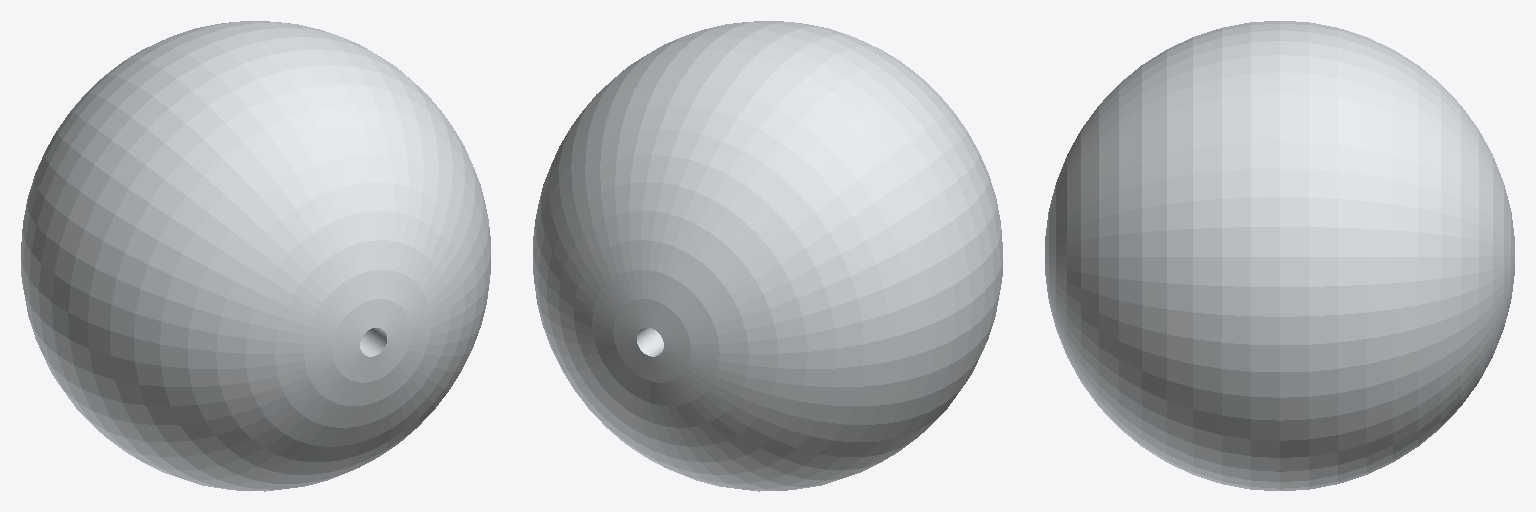
The robot description file, URDF, robot "lide":
<?xml version="1.0" encoding="utf-8"?>
<!-- This URDF was automatically created by SolidWorks to URDF Exporter! Originally created by [author] ([email redacted]) 
     Commit Version: 1.5.1-0-g916b5db  Build Version: 1.5.7152.31018
     For more information, please see http://wiki.ros.org/sw_urdf_exporter -->
<robot
  name="lide">
  <link
    name="base_link">
    <inertial>
      <origin
        xyz="-0.12391 0.084904 0.0506"
        rpy="0 0 0" />
      <mass
        value="2.9143" />
      <inertia
        ixx="0.0061741"
        ixy="-7.1545E-07"
        ixz="-1.2654E-05"
        iyy="0.0055345"
        iyz="-3.5133E-07"
        izz="0.01105" />
    </inertial>
    <visual>
      <origin
        xyz="0 0 0"
        rpy="0 0 0" />
      <geometry>
        <mesh
          filename="package://lide/meshes/base_link.STL" />
      </geometry>
      <material
        name="">
        <color
          rgba="0.75294 0.75294 0.75294 1" />
      </material>
    </visual>
    <collision>
      <origin
        xyz="0 0 0"
        rpy="0 0 0" />
      <geometry>
        <mesh
          filename="package://lide/meshes/base_link.STL" />
      </geometry>
    </collision>
  </link>
  <link
    name="LFS">
    <inertial>
      <origin
        xyz="0.04556 0.0083094 0.0029762"
        rpy="0 0 0" />
      <mass
        value="0.072793" />
      <inertia
        ixx="2.2093E-05"
        ixy="-1.6485E-08"
        ixz="-1.5645E-07"
        iyy="1.6263E-05"
        iyz="2.9641E-09"
        izz="1.8084E-05" />
    </inertial>
    <visual>
      <origin
        xyz="0 0 0"
        rpy="0 0 0" />
      <geometry>
        <mesh
          filename="package://lide/meshes/LFS.STL" />
      </geometry>
      <material
        name="">
        <color
          rgba="0.75294 0.75294 0.75294 1" />
      </material>
    </visual>
    <collision>
      <origin
        xyz="0 0 0"
        rpy="0 0 0" />
      <geometry>
        <mesh
          filename="package://lide/meshes/LFS.STL" />
      </geometry>
    </collision>
  </link>
  <joint
    name="LFS"
    type="fixed">
    <origin
      xyz="-0.054044 0.18241 -0.036503"
      rpy="1.5708 0 1.5708" />
    <parent
      link="base_link" />
    <child
      link="LFS" />
    <axis
      xyz="0 0 0" />
  </joint>
  <link
    name="LFW">
    <inertial>
      <origin
        xyz="0.015 0 3.4694E-18"
        rpy="0 0 0" />
      <mass
        value="0.76708" />
      <inertia
        ixx="0.0011643"
        ixy="4.4576E-22"
        ixz="-1.8299E-20"
        iyy="0.00063966"
        iyz="-1.3553E-20"
        izz="0.00063966" />
    </inertial>
    <visual>
      <origin
        xyz="0 0 0"
        rpy="0 0 0" />
      <geometry>
        <mesh
          filename="package://lide/meshes/LFW.STL" />
      </geometry>
      <material
        name="">
        <color
          rgba="0.89804 0.91765 0.92941 1" />
      </material>
    </visual>
    <collision>
      <origin
        xyz="0 0 0"
        rpy="0 0 0" />
      <geometry>
        <mesh
          filename="package://lide/meshes/LFW.STL" />
      </geometry>
    </collision>
  </link>
  <joint
    name="LFW"
    type="continuous">
    <origin
      xyz="0.063346 -0.006798 0.015044"
      rpy="-1.6264 0 0" />
    <parent
      link="LFS" />
    <child
      link="LFW" />
    <axis
      xyz="1 0 0" />
    <limit
      effort="3.1"
      velocity="7" />
  </joint>
  <link
    name="RFS">
    <inertial>
      <origin
        xyz="-0.019183 -0.0090093 0.052006"
        rpy="0 0 0" />
      <mass
        value="0.072793" />
      <inertia
        ixx="2.2093E-05"
        ixy="-1.6485E-08"
        ixz="1.5645E-07"
        iyy="1.6263E-05"
        iyz="-2.9641E-09"
        izz="1.8084E-05" />
    </inertial>
    <visual>
      <origin
        xyz="0 0 0"
        rpy="0 0 0" />
      <geometry>
        <mesh
          filename="package://lide/meshes/RFS.STL" />
      </geometry>
      <material
        name="">
        <color
          rgba="0.75294 0.75294 0.75294 1" />
      </material>
    </visual>
    <collision>
      <origin
        xyz="0 0 0"
        rpy="0 0 0" />
      <geometry>
        <mesh
          filename="package://lide/meshes/RFS.STL" />
      </geometry>
    </collision>
  </link>
  <joint
    name="RFS"
    type="fixed">
    <origin
      xyz="-0.10307 -0.042784 -0.019216"
      rpy="1.5708 0 1.5708" />
    <parent
      link="base_link" />
    <child
      link="RFS" />
    <axis
      xyz="0 0 0" />
  </joint>
  <link
    name="RFW">
    <inertial>
      <origin
        xyz="-0.015 0 0"
        rpy="0 0 0" />
      <mass
        value="0.76708" />
      <inertia
        ixx="0.0011643"
        ixy="-1.2315E-36"
        ixz="0"
        iyy="0.00063966"
        iyz="8.0046E-39"
        izz="0.00063966" />
    </inertial>
    <visual>
      <origin
        xyz="0 0 0"
        rpy="0 0 0" />
      <geometry>
        <mesh
          filename="package://lide/meshes/RFW.STL" />
      </geometry>
      <material
        name="">
        <color
          rgba="0.89804 0.91765 0.92941 1" />
      </material>
    </visual>
    <collision>
      <origin
        xyz="0 0 0"
        rpy="0 0 0" />
      <geometry>
        <mesh
          filename="package://lide/meshes/RFW.STL" />
      </geometry>
    </collision>
  </link>
  <joint
    name="RFW"
    type="continuous">
    <origin
      xyz="-0.036969 -0.024084 0.064073"
      rpy="0 0 0" />
    <parent
      link="RFS" />
    <child
      link="RFW" />
    <axis
      xyz="1 0 0" />
    <limit
      effort="3.1"
      velocity="7" />
  </joint>
  <link
    name="LBS">
    <inertial>
      <origin
        xyz="-3.5414E-10 -0.026624 -8.5597E-10"
        rpy="0 0 0" />
      <mass
        value="0.10963" />
      <inertia
        ixx="9.4707E-05"
        ixy="-7.1331E-13"
        ixz="1.3632E-13"
        iyy="7.1991E-05"
        iyz="-4.5924E-12"
        izz="9.4742E-05" />
    </inertial>
    <visual>
      <origin
        xyz="0 0 0"
        rpy="0 0 0" />
      <geometry>
        <mesh
          filename="package://lide/meshes/LBS.STL" />
      </geometry>
      <material
        name="">
        <color
          rgba="0.89804 0.91765 0.92941 1" />
      </material>
    </visual>
    <collision>
      <origin
        xyz="0 0 0"
        rpy="0 0 0" />
      <geometry>
        <mesh
          filename="package://lide/meshes/LBS.STL" />
      </geometry>
    </collision>
  </link>
  <joint
    name="LBS"
    type="fixed">
    <origin
      xyz="-0.202 0.228 -0.012562"
      rpy="1.5708 0 1.5708" />
    <parent
      link="base_link" />
    <child
      link="LBS" />
    <axis
      xyz="0 0 0" />
  </joint>
  <link
    name="LBW">
    <inertial>
      <origin
        xyz="0 0 0"
        rpy="0 0 0" />
      <mass
        value="0.30333" />
      <inertia
        ixx="0.00010932"
        ixy="2.1445E-39"
        ixz="0"
        iyy="0.00010993"
        iyz="-1.6776E-40"
        izz="0.00010932" />
    </inertial>
    <visual>
      <origin
        xyz="0 0 0"
        rpy="0 0 0" />
      <geometry>
        <mesh
          filename="package://lide/meshes/LBW.STL" />
      </geometry>
      <material
        name="">
        <color
          rgba="0.89804 0.91765 0.92941 1" />
      </material>
    </visual>
    <collision>
      <origin
        xyz="0 0 0"
        rpy="0 0 0" />
      <geometry>
        <mesh
          filename="package://lide/meshes/LBW.STL" />
      </geometry>
    </collision>
  </link>
  <joint
    name="LBW"
    type="continuous">
    <origin
      xyz="0 -0.055738 0"
      rpy="3.1416 -0.43366 1.5708" />
    <parent
      link="LBS" />
    <child
      link="LBW" />
    <axis
      xyz="0 1 0" />
  </joint>
  <link
    name="RBS">
    <inertial>
      <origin
        xyz="-3.5414E-10 -0.026624 -8.5597E-10"
        rpy="0 0 0" />
      <mass
        value="0.10963" />
      <inertia
        ixx="9.4707E-05"
        ixy="-7.1331E-13"
        ixz="1.3632E-13"
        iyy="7.1991E-05"
        iyz="-4.5924E-12"
        izz="9.4742E-05" />
    </inertial>
    <visual>
      <origin
        xyz="0 0 0"
        rpy="0 0 0" />
      <geometry>
        <mesh
          filename="package://lide/meshes/RBS.STL" />
      </geometry>
      <material
        name="">
        <color
          rgba="0.89804 0.91765 0.92941 1" />
      </material>
    </visual>
    <collision>
      <origin
        xyz="0 0 0"
        rpy="0 0 0" />
      <geometry>
        <mesh
          filename="package://lide/meshes/RBS.STL" />
      </geometry>
    </collision>
  </link>
  <joint
    name="RBS"
    type="fixed">
    <origin
      xyz="-0.202 -0.062003 -0.012562"
      rpy="1.5708 0 1.5708" />
    <parent
      link="base_link" />
    <child
      link="RBS" />
    <axis
      xyz="0 0 0" />
  </joint>
  <link
    name="RBW">
    <inertial>
      <origin
        xyz="6.9389E-18 -2.7756E-17 -2.7756E-17"
        rpy="0 0 0" />
      <mass
        value="0.30333" />
      <inertia
        ixx="0.00010932"
        ixy="3.0972E-39"
        ixz="7.0418E-41"
        iyy="0.00010993"
        iyz="1.9488E-40"
        izz="0.00010932" />
    </inertial>
    <visual>
      <origin
        xyz="0 0 0"
        rpy="0 0 0" />
      <geometry>
        <mesh
          filename="package://lide/meshes/RBW.STL" />
      </geometry>
      <material
        name="">
        <color
          rgba="0.89804 0.91765 0.92941 1" />
      </material>
    </visual>
    <collision>
      <origin
        xyz="0 0 0"
        rpy="0 0 0" />
      <geometry>
        <mesh
          filename="package://lide/meshes/RBW.STL" />
      </geometry>
    </collision>
  </link>
  <joint
    name="RBW"
    type="continuous">
    <origin
      xyz="0 -0.055738 0"
      rpy="0 0 -1.5708" />
    <parent
      link="RBS" />
    <child
      link="RBW" />
    <axis
      xyz="0 1 0" />
  </joint>
  <link
    name="fcam">
    <inertial>
      <origin
        xyz="-0.011554 -2.6443E-06 0.0012903"
        rpy="0 0 0" />
      <mass
        value="0.043612" />
      <inertia
        ixx="2.3571E-05"
        ixy="-1.0184E-09"
        ixz="2.1759E-08"
        iyy="4.2948E-06"
        iyz="-8.8502E-10"
        izz="2.2106E-05" />
    </inertial>
    <visual>
      <origin
        xyz="0 0 0"
        rpy="0 0 0" />
      <geometry>
        <mesh
          filename="package://lide/meshes/fcam.STL" />
      </geometry>
      <material
        name="">
        <color
          rgba="0.79216 0.81961 0.93333 1" />
      </material>
    </visual>
    <collision>
      <origin
        xyz="0 0 0"
        rpy="0 0 0" />
      <geometry>
        <mesh
          filename="package://lide/meshes/fcam.STL" />
      </geometry>
    </collision>
  </link>
  <joint
    name="fcam"
    type="fixed">
    <origin
      xyz="-0.0038823 0.083 0.12982"
      rpy="0 0.2618 0" />
    <parent
      link="base_link" />
    <child
      link="fcam" />
    <axis
      xyz="0 0 0" />
  </joint>
  <link
    name="bcam">
    <inertial>
      <origin
        xyz="-0.020103 -2.6435E-06 -0.0072587"
        rpy="0 0 0" />
      <mass
        value="0.043612" />
      <inertia
        ixx="2.3571E-05"
        ixy="-1.0183E-09"
        ixz="2.1758E-08"
        iyy="4.2948E-06"
        iyz="-8.8548E-10"
        izz="2.2106E-05" />
    </inertial>
    <visual>
      <origin
        xyz="0 0 0"
        rpy="0 0 0" />
      <geometry>
        <mesh
          filename="package://lide/meshes/bcam.STL" />
      </geometry>
      <material
        name="">
        <color
          rgba="0.79216 0.81961 0.93333 1" />
      </material>
    </visual>
    <collision>
      <origin
        xyz="0 0 0"
        rpy="0 0 0" />
      <geometry>
        <mesh
          filename="package://lide/meshes/bcam.STL" />
      </geometry>
    </collision>
  </link>
  <joint
    name="bcam"
    type="fixed">
    <origin
      xyz="0 0.083 0.091232"
      rpy="0 0.7854 0" />
    <parent
      link="base_link" />
    <child
      link="bcam" />
    <axis
      xyz="0 0 0" />
  </joint>
  <link
    name="Lidar">
    <inertial>
      <origin
        xyz="0.013523 0.00046196 -0.028765"
        rpy="0 0 0" />
      <mass
        value="0.073085" />
      <inertia
        ixx="1.9581E-05"
        ixy="-1.0393E-07"
        ixz="-4.2839E-07"
        iyy="2.4125E-05"
        iyz="9.4271E-09"
        izz="4.1418E-05" />
    </inertial>
    <visual>
      <origin
        xyz="0 0 0"
        rpy="0 0 0" />
      <geometry>
        <mesh
          filename="package://lide/meshes/Lidar.STL" />
      </geometry>
      <material
        name="">
        <color
          rgba="0.79216 0.81961 0.93333 1" />
      </material>
    </visual>
    <collision>
      <origin
        xyz="0 0 0"
        rpy="0 0 0" />
      <geometry>
        <mesh
          filename="package://lide/meshes/Lidar.STL" />
      </geometry>
    </collision>
  </link>
  <joint
    name="Lidar"
    type="fixed">
    <origin
      xyz="-0.19458 0.082006 0.2065"
      rpy="0 0 0" />
    <parent
      link="base_link" />
    <child
      link="Lidar" />
    <axis
      xyz="0 0 0" />
  </joint>
  <link
    name="imu_link">
    <inertial>
      <origin
        xyz="0 0 0"
        rpy="0 0 0" />
      <mass
        value="0" />
      <inertia
        ixx="0"
        ixy="0"
        ixz="0"
        iyy="0"
        iyz="0"
        izz="0" />
    </inertial>
    <visual>
      <origin
        xyz="0 0 0"
        rpy="0 0 0" />
      <geometry>
        <mesh
          filename="package://lide/meshes/imu_link.STL" />
      </geometry>
      <material
        name="">
        <color
          rgba="1 1 1 1" />
      </material>
    </visual>
    <collision>
      <origin
        xyz="0 0 0"
        rpy="0 0 0" />
      <geometry>
        <mesh
          filename="package://lide/meshes/imu_link.STL" />
      </geometry>
    </collision>
  </link>
  <joint
    name="imu_link"
    type="fixed">
    <origin
      xyz="-0.039 0.083 0.155"
      rpy="0 0 0" />
    <parent
      link="base_link" />
    <child
      link="imu_link" />
    <axis
      xyz="0 0 0" />
  </joint>
</robot>

--- What the picture shows (computed from the rendered views, not written in the file) ---
3 views of the same robot in one strip: view 1: azimuth 30°, elevation 25°; view 2: azimuth 150°, elevation 25°; view 3: azimuth 270°, elevation 25° (orthographic).
Robot: lide — 13 links, 12 joints (4 continuous, 8 fixed); root link base_link; default pose: all joints at 0.
Links seen in each view (by area): view 1: LBW; view 2: LBW; view 3: LBW.
Boxes of the visible links, <box> form: LBW: <box>21,21,490,491</box>; LBW: <box>533,21,1002,491</box>; LBW: <box>1045,21,1514,490</box>.
Size in the robot's own frame: 0.06 by 0.0599 by 0.06 metres.
1 mesh visuals loaded from 13 distinct referenced files (1 binary STL); not drawn: 12 (reference not matched to a file when rendering).